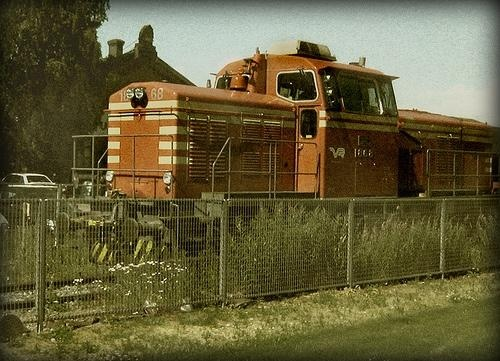car: (1, 171, 58, 191)
train: (72, 40, 496, 267)
